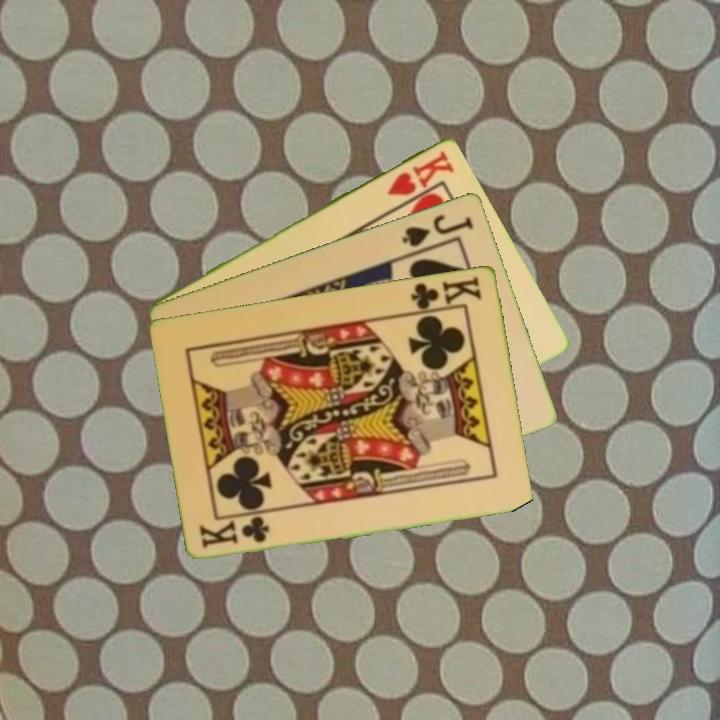Js: (398, 210, 477, 249)
Kc: (407, 271, 485, 315), (196, 513, 273, 551)
Kh: (384, 147, 457, 199)
